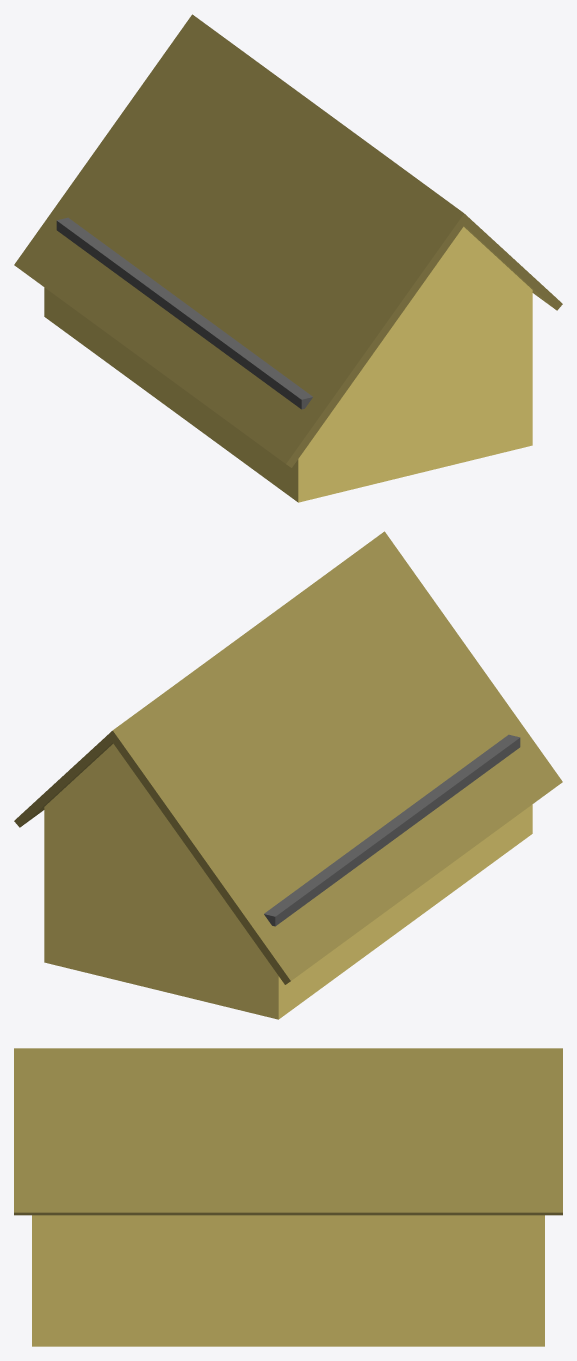
Rendered from result.glb.
3 views of the same model, one above another, from view 1: azimuth 30°, elevation 25°; view 2: azimuth 150°, elevation 25°; view 3: azimuth 270°, elevation 25° (orthographic).
Parts seen in each view (by area): view 1: da1a84af-abc0-4eab-b66f-82ab31333269__undefined (×2), 61c9cb6a-125e-44e1-b619-d840a81840c7__undefined, 83e819c8-fead-4f2d-87e3-d560e763b444__Box; view 2: da1a84af-abc0-4eab-b66f-82ab31333269__undefined (×2), 61c9cb6a-125e-44e1-b619-d840a81840c7__undefined, 83e819c8-fead-4f2d-87e3-d560e763b444__Box; view 3: da1a84af-abc0-4eab-b66f-82ab31333269__undefined, 61c9cb6a-125e-44e1-b619-d840a81840c7__undefined.
Part boxes in pixels (x1=…): da1a84af-abc0-4eab-b66f-82ab31333269__undefined (×2): x1=14, y1=14, x2=562, y2=467; 61c9cb6a-125e-44e1-b619-d840a81840c7__undefined: x1=44, y1=226, x2=532, y2=502; 83e819c8-fead-4f2d-87e3-d560e763b444__Box: x1=56, y1=217, x2=312, y2=409; da1a84af-abc0-4eab-b66f-82ab31333269__undefined (×2): x1=14, y1=531, x2=562, y2=984; 61c9cb6a-125e-44e1-b619-d840a81840c7__undefined: x1=44, y1=743, x2=532, y2=1019; 83e819c8-fead-4f2d-87e3-d560e763b444__Box: x1=264, y1=734, x2=520, y2=926; da1a84af-abc0-4eab-b66f-82ab31333269__undefined: x1=14, y1=1048, x2=562, y2=1215; 61c9cb6a-125e-44e1-b619-d840a81840c7__undefined: x1=32, y1=1215, x2=544, y2=1346.
Bounding box in the file's own units: 890 × 791 × 1514.
